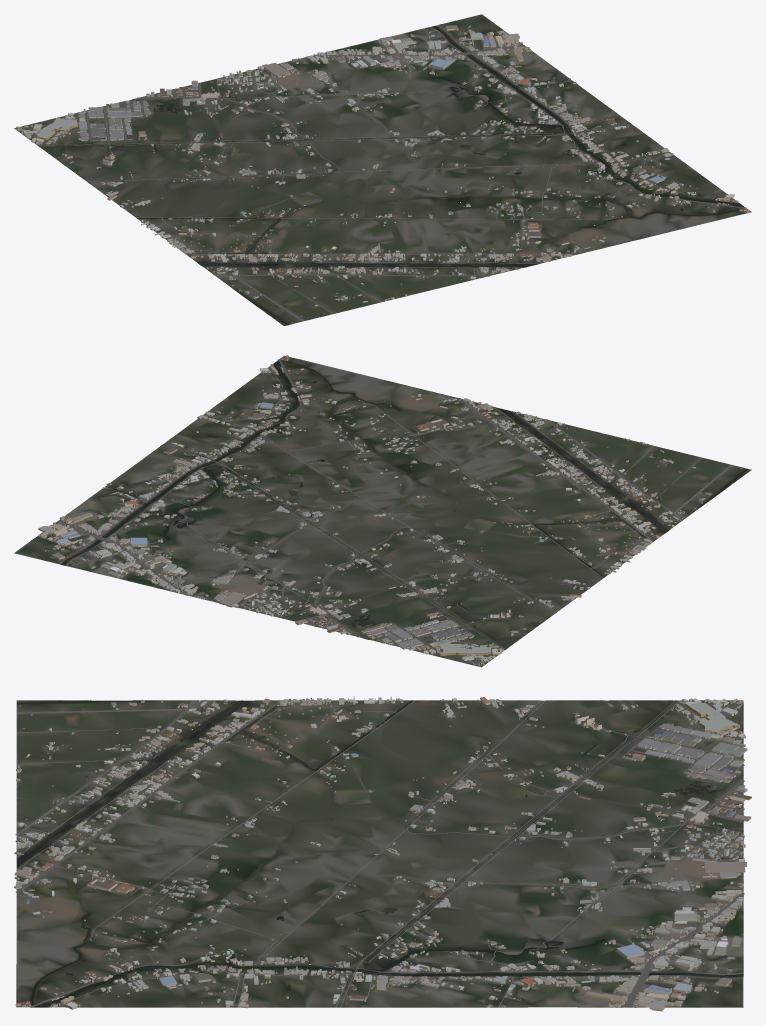
3 views of the same model, one above another, from view 1: azimuth 30°, elevation 25°; view 2: azimuth 150°, elevation 25°; view 3: azimuth 270°, elevation 25° (orthographic). The views are drawn at different scales.
Visible parts, largest first — view 1: ground, buildings, roads, water; view 2: ground, buildings, roads, water; view 3: ground, buildings, roads, water.
Part boxes in pixels (x1,y1,x2,y2): ground: (14,14,751,325); buildings: (16,25,749,322); roads: (41,25,746,321); water: (39,26,744,325); ground: (14,355,751,667); buildings: (38,355,741,666); roads: (52,359,732,649); water: (62,360,748,649); ground: (16,700,743,1007); buildings: (14,696,751,1011); roads: (15,699,744,1007); water: (17,700,743,1007).
Bounding box in the file's own units: 2859 × 31.93 × 2843.
